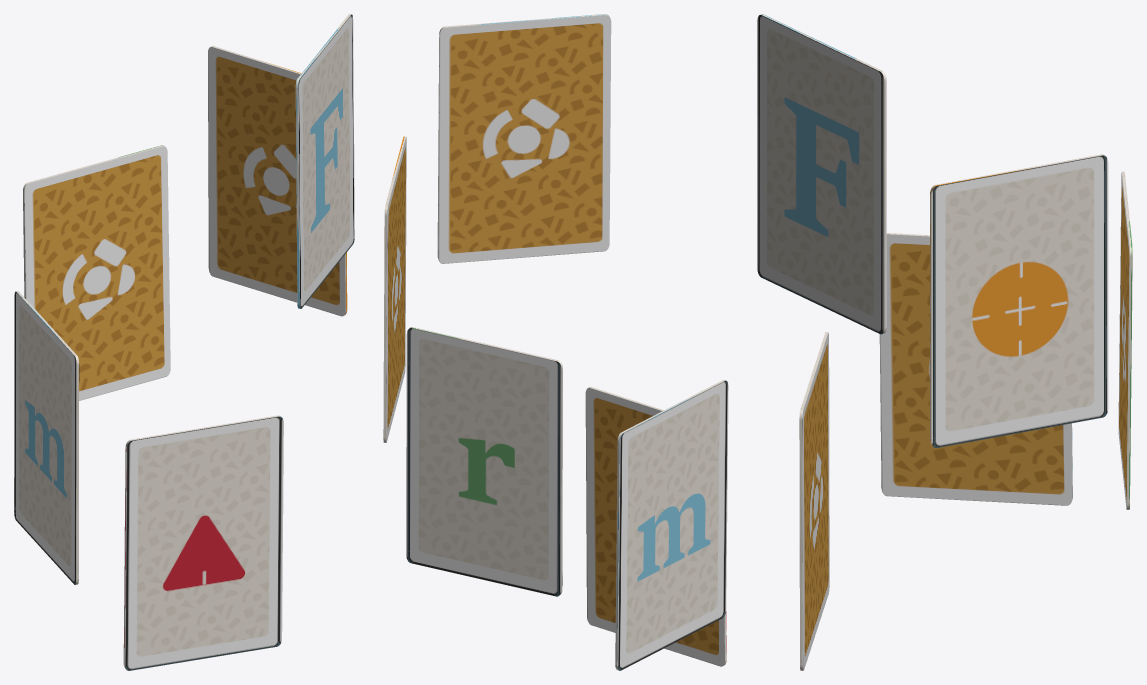
File: cartas01.glb
3 views of the same model, side by side, from view 1: azimuth 30°, elevation 25°; view 2: azimuth 150°, elevation 25°; view 3: azimuth 270°, elevation 25° (orthographic). The views are drawn at different scales.
Parts seen in each view (by area): view 1: Cube.005, Cube.007, Cube.008, Cube.006, Cube.009; view 2: Cube.009, Cube.007, Cube.006, Cube.005, Cube.008; view 3: Cube.008, Cube.009, Cube.006, Cube.005, Cube.007.
Boxes of the visible parts, box(x1,y1,x2,y2) form: Cube.005: box(123, 415, 283, 670); Cube.007: box(23, 145, 170, 400); Cube.008: box(208, 46, 347, 316); Cube.006: box(14, 291, 79, 584); Cube.009: box(295, 14, 354, 308); Cube.009: box(437, 14, 611, 263); Cube.007: box(406, 327, 562, 596); Cube.006: box(615, 380, 728, 670); Cube.005: box(585, 387, 726, 666); Cube.008: box(383, 136, 406, 442); Cube.008: box(930, 154, 1108, 447); Cube.009: box(757, 14, 886, 334); Cube.006: box(879, 233, 1072, 505); Cube.005: box(799, 332, 829, 670); Cube.007: box(1118, 171, 1132, 509).
Bounding box in the file's own units: 96.58 × 182 × 94.12.
Materials: 10 (10 with a texture image).
